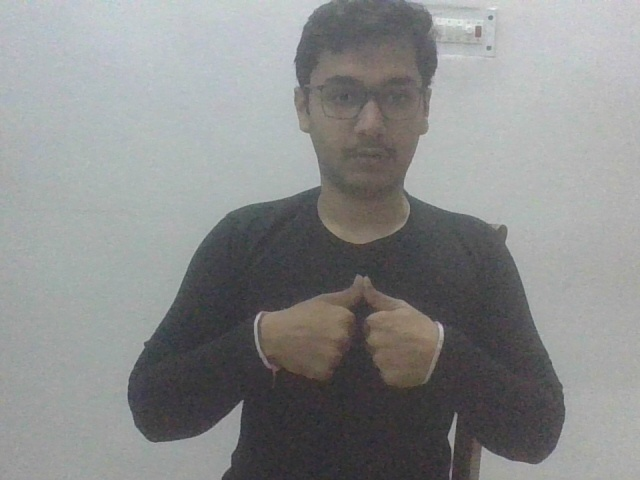A: (254, 267, 442, 397)
